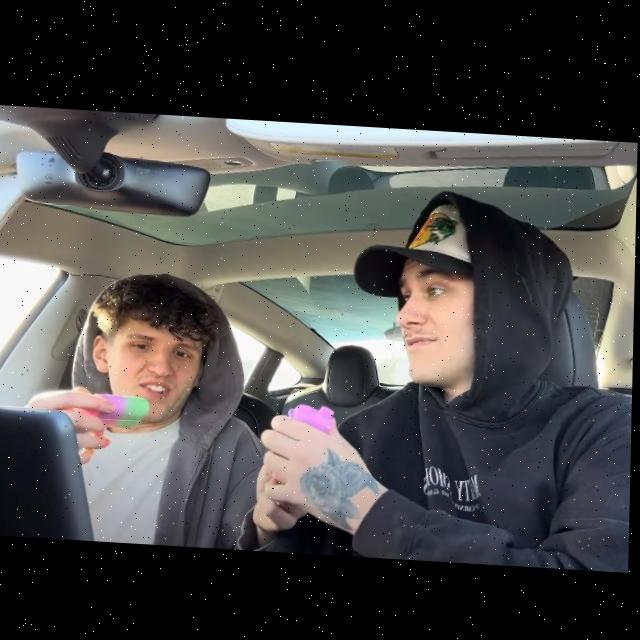vape: (64, 391, 152, 428), (290, 400, 338, 432)
